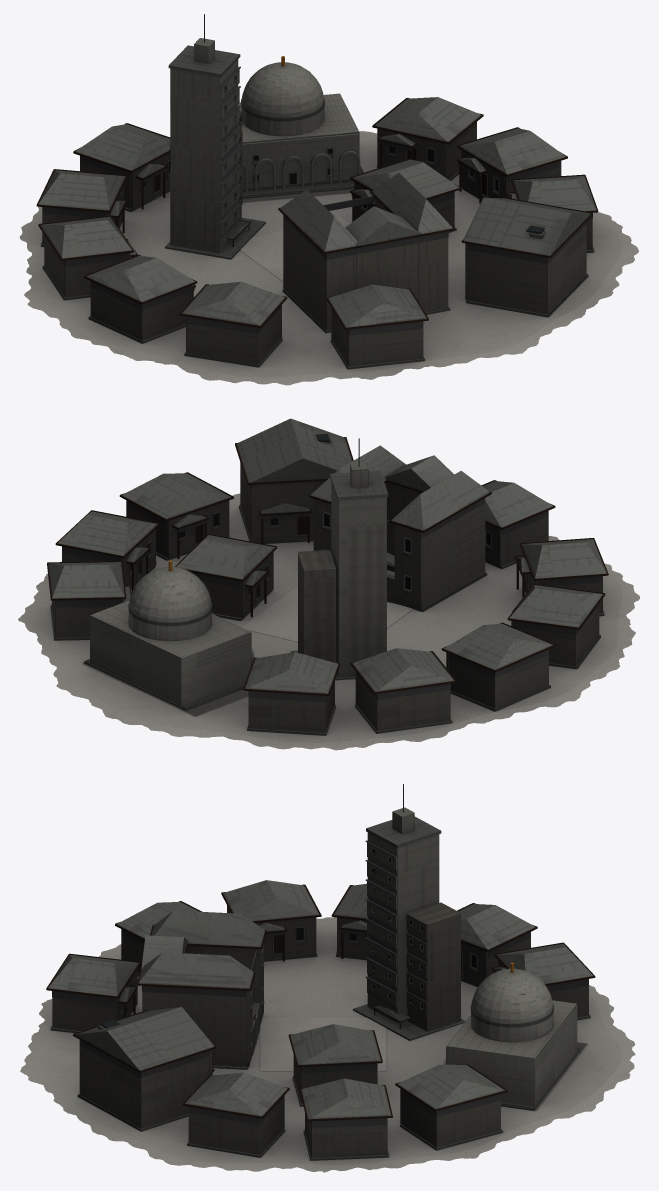
The model's file is modern-town-medium-b-westafrica.glb.
3 renders of one model, top to bottom at view 1: azimuth 30°, elevation 25°; view 2: azimuth 150°, elevation 25°; view 3: azimuth 270°, elevation 25°, orthographic.
Visible parts, largest first — view 1: LOD0; view 2: LOD0; view 3: LOD0.
Part boxes in pixels (x1,y1,x2,y2): LOD0: (19, 14, 638, 385); LOD0: (18, 418, 639, 750); LOD0: (20, 784, 635, 1172).
Size of what is drawn, in the model's own units: 5.92 by 2.4 by 6.02.
3 materials, 3 textured.
